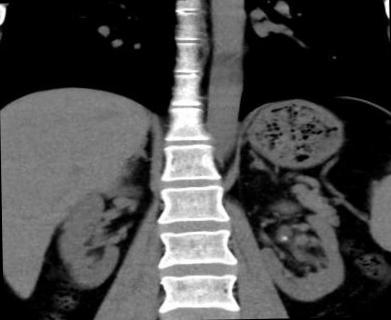Tas_Var: (279, 234, 289, 242)
